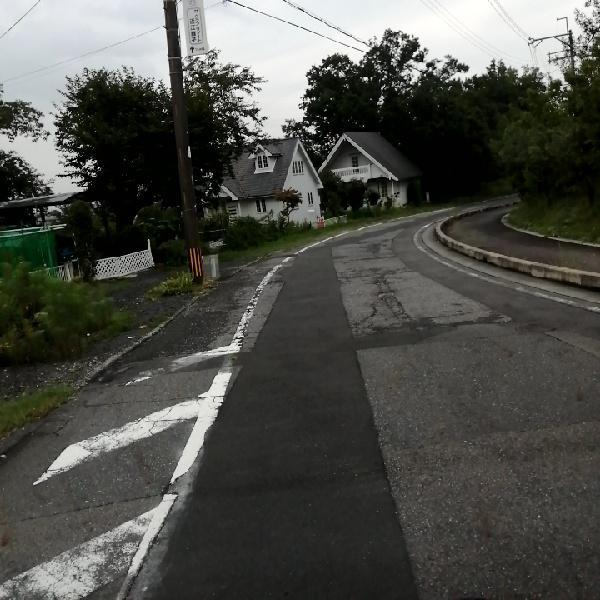D20: (342, 255, 421, 337)
